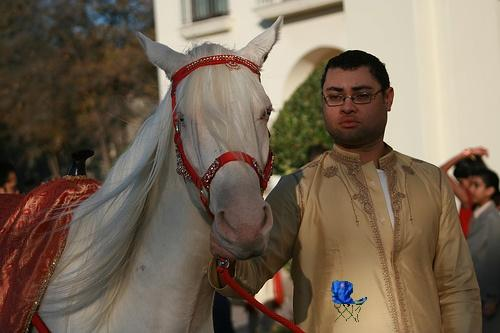tampered: (332, 281, 367, 322)
